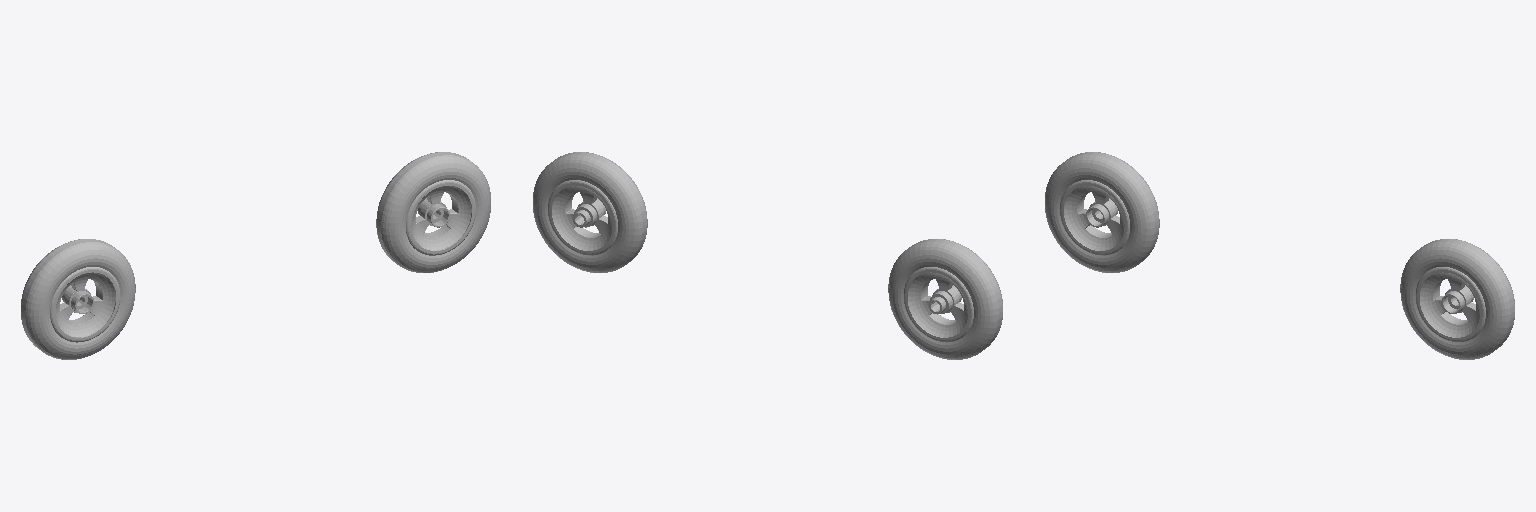
robot.urdf — sendbooster_amr:
<robot name="sendbooster_amr">
  <link name="map"/> <!-- 최상위 링크: map -->

  <link name="base_link">
    <inertial>
      <origin xyz="-0.00591137033702896 0.124738363969582 0.122792068633473" rpy="0 0 0" />
      <mass value="14.2039932900445" />
      <inertia ixx="0.126970359206886" ixy="-1.44058897972358E-05" ixz="3.06481811968199E-06" 
               iyy="0.191380250382105" iyz="-3.58356058956857E-05" izz="0.291678247232402" />
    </inertial>
    <visual>
      <origin xyz="0 0 0" rpy="0 0 0" />
      <geometry>
        <mesh filename="package://sendbooster_amr/urdf/meshes/base_link.STL" />
      </geometry>
      <material name="">
        <color rgba="0.752941176470588 0.752941176470588 0.752941176470588 1" />
      </material>
    </visual>
    <collision>
      <origin xyz="0 0 0" rpy="0 0 0" />
      <geometry>
        <mesh filename="package://sendbooster_amr/urdf/meshes/base_link.STL" />
      </geometry>
    </collision>
  </link>

  <joint name="map_to_base" type="fixed">
    <parent link="map" /> <!-- map의 자식 -->
    <child link="base_link" />
    <origin xyz="0 0 0" rpy="0 0 0" /> <!-- map과 base_link 간의 변환 -->
  </joint>

  <link name="left_wheel">
    <inertial>
      <origin xyz="1.62295621941588E-06 -6.63779840731626E-06 0.0315072954675824" rpy="0 0 0" />
      <mass value="1.0510392293134" />
      <inertia ixx="0.0027577202396378" ixy="1.98398252861109E-09" 
               ixz="-3.3971722585081E-10" iyy="0.00275782694016087" 
               iyz="-7.0517109702979E-08" izz="0.00521469816808539" />
    </inertial>
    <visual>
      <origin xyz="0 0 0" rpy="0 0 0" />
      <geometry>
        <mesh filename="package://sendbooster_amr/urdf/meshes/left_wheel.STL" />
      </geometry>
      <material name="">
        <color rgba="0.752941176470588 0.752941176470588 0.752941176470588 1" />
      </material>
    </visual>
    <collision>
      <origin xyz="0 0 0" rpy="0 0 0" />
      <geometry>
        <mesh filename="package://sendbooster_amr/urdf/meshes/left_wheel.STL" />
      </geometry>
    </collision>
  </link>

  <joint name="left_wheel_joint" type="continuous">
    <parent link="base_link" /> <!-- base_link의 자식 -->
    <child link="left_wheel" />
    <origin xyz="0.31166 0.285 0.015" rpy="1.5708 0 0" /> <!-- X축으로 90도 회전 -->
    <axis xyz="0 0 1" />
  </joint>

  <link name="right_wheel">
    <inertial>
      <origin xyz="1.62281509219486E-06 -6.63853994181673E-06 0.0315072956645379" rpy="0 0 0" />
      <mass value="1.05103912477071" />
      <inertia ixx="0.00275772024623309" ixy="2.04542118268855E-09" 
               ixz="-3.39121797359472E-10" iyy="0.00275782691111439" 
               iyz="-7.0517957676402E-08" izz="0.00521469815221501" />
    </inertial>
    <visual>
      <origin xyz="0 0 0" rpy="0 0 0" />
      <geometry>
        <mesh filename="package://sendbooster_amr/urdf/meshes/right_wheel.STL" />
      </geometry>
      <material name="">
        <color rgba="0.752941176470588 0.752941176470588 0.752941176470588 1" />
      </material>
    </visual>
    <collision>
      <origin xyz="0 0 0" rpy="0 0 0" />
      <geometry>
        <mesh filename="package://sendbooster_amr/urdf/meshes/right_wheel.STL" />
      </geometry>
    </collision>
  </link>

  <joint name="right_wheel_joint" type="continuous">
    <parent link="base_link" /> <!-- base_link의 자식 -->
    <child link="right_wheel" />
    <origin xyz="-0.31166 0.285 0.015" rpy="1.5708 0 0" /> <!-- X축으로 90도 회전 -->
    <axis xyz="0 0 1" />
  </joint>

</robot>

--- Facts derived from the render (not from the file) ---
The picture shows the robot from 3 angles, left to right: view 1: azimuth 30°, elevation 25°; view 2: azimuth 150°, elevation 25°; view 3: azimuth 330°, elevation 25°; orthographic projection.
Robot: sendbooster_amr — 4 links, 3 joints (2 continuous, 1 fixed); root link map; default pose: all joints at 0.
Links seen in each view (by area): view 1: left_wheel, right_wheel; view 2: left_wheel, right_wheel; view 3: right_wheel, left_wheel.
Link boxes in pixels (x1,y1,x2,y2): left_wheel: [376, 152, 490, 272]; right_wheel: [21, 239, 135, 359]; left_wheel: [533, 152, 647, 272]; right_wheel: [888, 239, 1002, 359]; right_wheel: [1045, 152, 1159, 272]; left_wheel: [1400, 239, 1514, 359].
Size in the robot's own frame: 0.8158 by 0.0555 by 0.1925 metres.
2 mesh visuals loaded from 3 distinct referenced files (2 binary STL); not drawn: 1 (reference not matched to a file when rendering).
